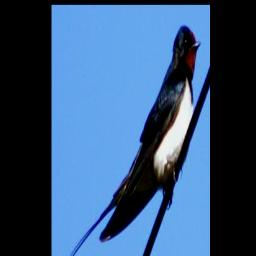Swallow: (60, 24, 201, 256)
